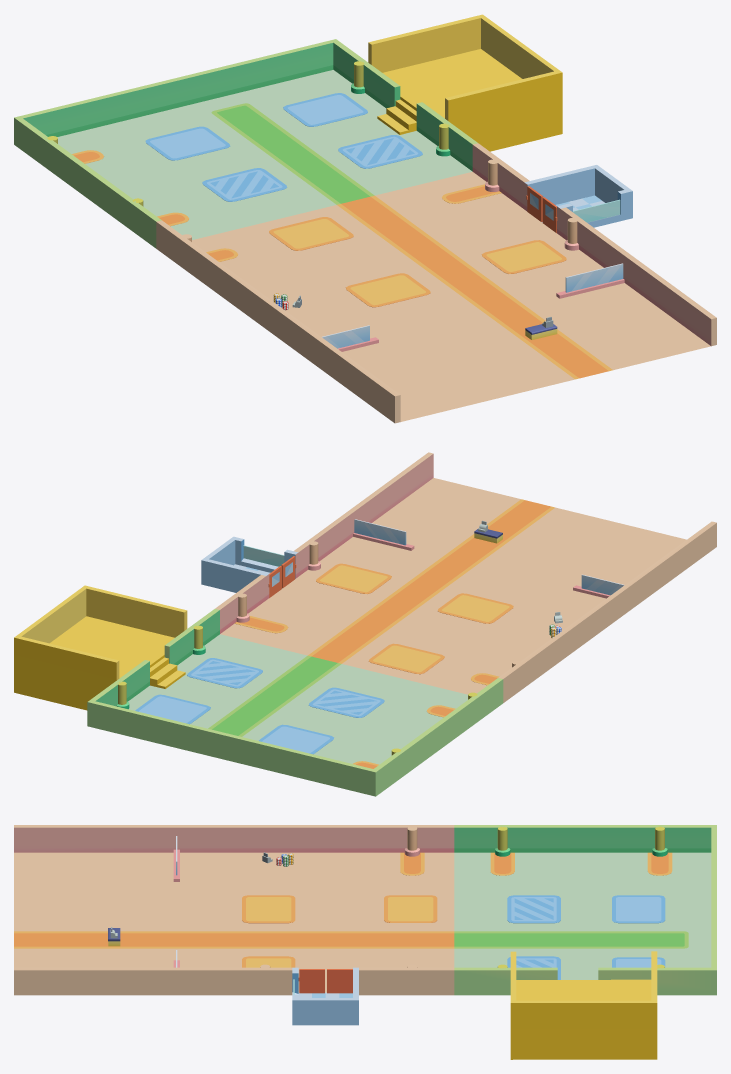
Rendered from 00scene seprated .fbx.
The picture shows the model from 3 angles, top to bottom: view 1: azimuth 30°, elevation 25°; view 2: azimuth 150°, elevation 25°; view 3: azimuth 270°, elevation 25°; orthographic projection. The views are drawn at different scales.
Parts seen in each view (by area): view 1: Plane.001, Plane.065, Plane.028, Plane.029, Plane.032, Plane.031, Plane.022, Plane.030, Plane.011, Plane.014, Plane.013, Plane.002 (+7 smaller); view 2: Plane.001, Plane.065, Plane.028, Plane.029, Plane.032, Plane.031, Plane.022, Plane.002, Plane.010, Plane.011, Plane.004, Plane.012 (+6 smaller); view 3: Plane.001, Plane.028, Plane.065, Plane.032, Plane.031, Plane.030, Plane.022, Plane.004, Plane.011, Plane.014, Plane.010, Plane.029 (+5 smaller).
Boxes of the visible parts, x1,y1,x2,y2 form: Plane.001: (57,70,710,423); Plane.065: (368,14,562,151); Plane.028: (14,117,399,423); Plane.029: (14,39,335,136); Plane.032: (557,205,716,346); Plane.031: (416,102,533,211); Plane.022: (530,165,632,227); Plane.030: (333,39,400,108); Plane.011: (345,273,430,307); Plane.014: (145,126,230,160); Plane.013: (283,93,367,126); Plane.002: (338,135,422,168); Plane.001: (128,478,686,764); Plane.065: (14,585,187,710); Plane.028: (373,521,716,796); Plane.029: (87,701,375,796); Plane.032: (290,452,433,578); Plane.031: (164,573,269,665); Plane.022: (201,536,292,592); Plane.002: (187,658,262,688); Plane.010: (368,643,444,674); Plane.011: (437,593,513,623); Plane.004: (308,687,384,717); Plane.012: (316,563,391,593); Plane.001: (14,852,711,992); Plane.028: (14,825,716,852); Plane.065: (510,951,657,1059); Plane.032: (14,967,298,995); Plane.031: (353,967,557,995); Plane.030: (598,967,716,995); Plane.022: (292,970,358,1025); Plane.004: (507,895,560,923); Plane.011: (242,895,295,923); Plane.014: (612,895,665,923); Plane.010: (384,895,437,922); Plane.029: (711,825,716,969).
Bounding box in the file's own units: 3128 × 420 × 4724.
